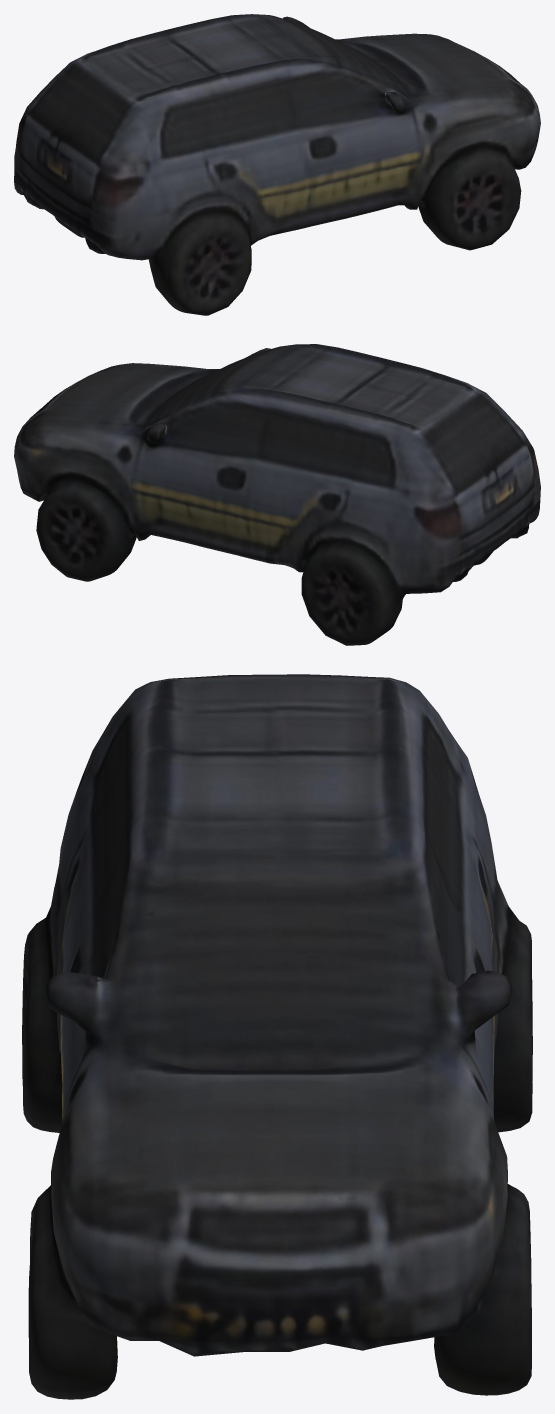
File: outlander.fbx
3 renders of one model, top to bottom at view 1: azimuth 30°, elevation 25°; view 2: azimuth 150°, elevation 25°; view 3: azimuth 270°, elevation 25°, orthographic. The views are drawn at different scales.
Visible parts, largest first — view 1: mesh; view 2: mesh; view 3: mesh.
Part boxes in pixels (box(x1,y1,x2,y2)): mesh: box(14, 14, 540, 315); mesh: box(14, 344, 540, 645); mesh: box(22, 674, 532, 1399).
Size of the model in its own units: 4.53 by 2.16 by 1.96.
1 material, 1 textured.
